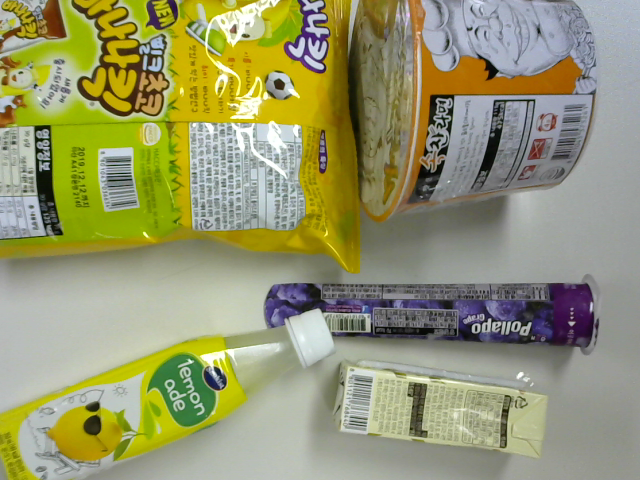99.89_Soymilk: (327, 360, 555, 460)
Banana_Kick: (1, 1, 359, 274)
Hejangchan: (345, 2, 597, 220)
Polapo_Grape: (265, 278, 599, 354)
Sunkist_Lemonaid_Pet: (3, 310, 332, 480)
